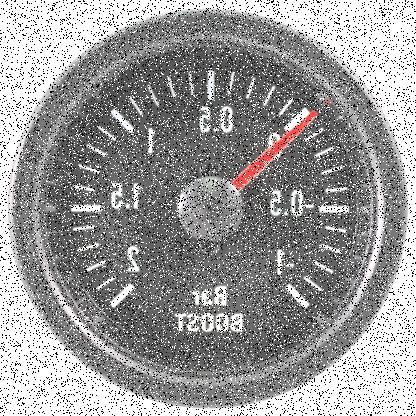needle: (230, 109, 320, 189)
